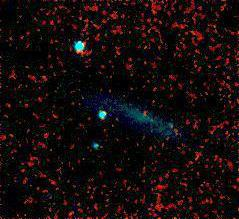star: (123, 109, 153, 139)
